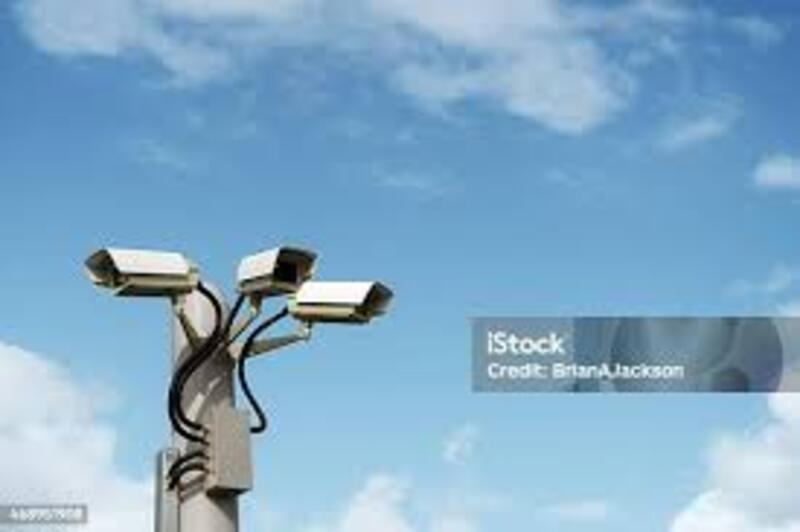box: (78, 241, 196, 300), (288, 277, 389, 327), (236, 246, 317, 301)
